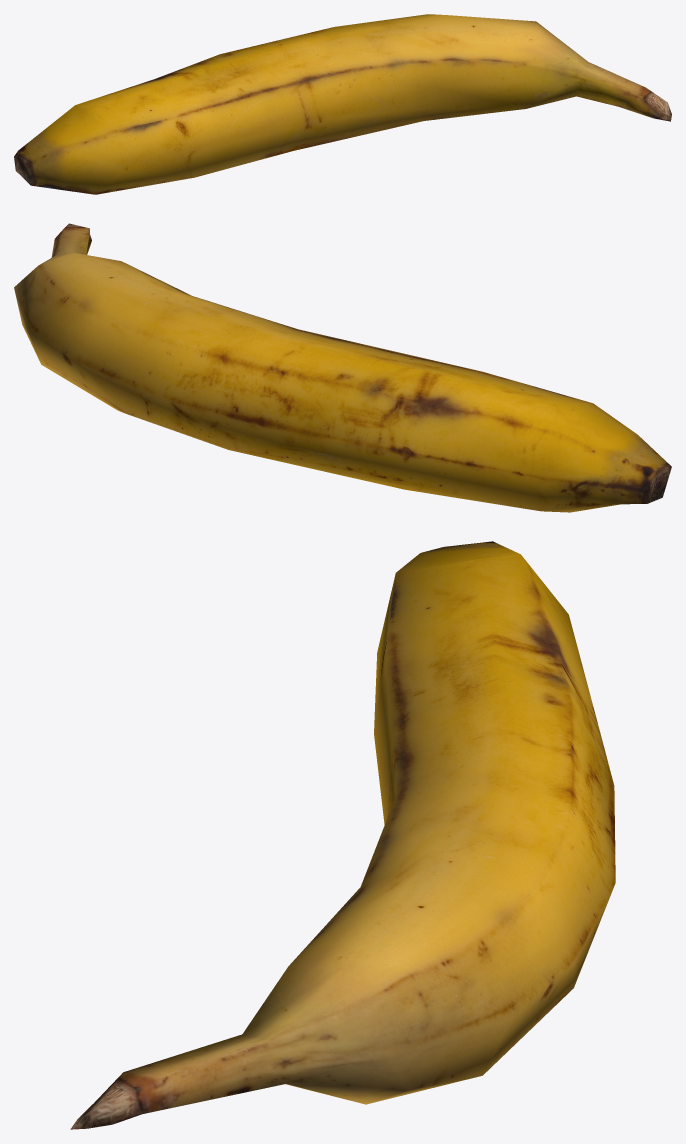
The model's file is banana_tklkaixiw_low.glb.
The picture shows the model from 3 angles, top to bottom: view 1: azimuth 30°, elevation 25°; view 2: azimuth 150°, elevation 25°; view 3: azimuth 270°, elevation 25°; orthographic projection. The views are drawn at different scales.
Visible parts, largest first — view 1: tklkaixiw_LOD0_TIER3_000; view 2: tklkaixiw_LOD0_TIER3_000; view 3: tklkaixiw_LOD0_TIER3_000.
Part boxes in pixels (<box>): tklkaixiw_LOD0_TIER3_000: <box>14,14,671,194</box>; tklkaixiw_LOD0_TIER3_000: <box>14,223,671,512</box>; tklkaixiw_LOD0_TIER3_000: <box>70,541,615,1129</box>.
Size of the model in its own units: 0.2634 by 0.0407 by 0.112.
Materials: 1 (1 with a texture image).
